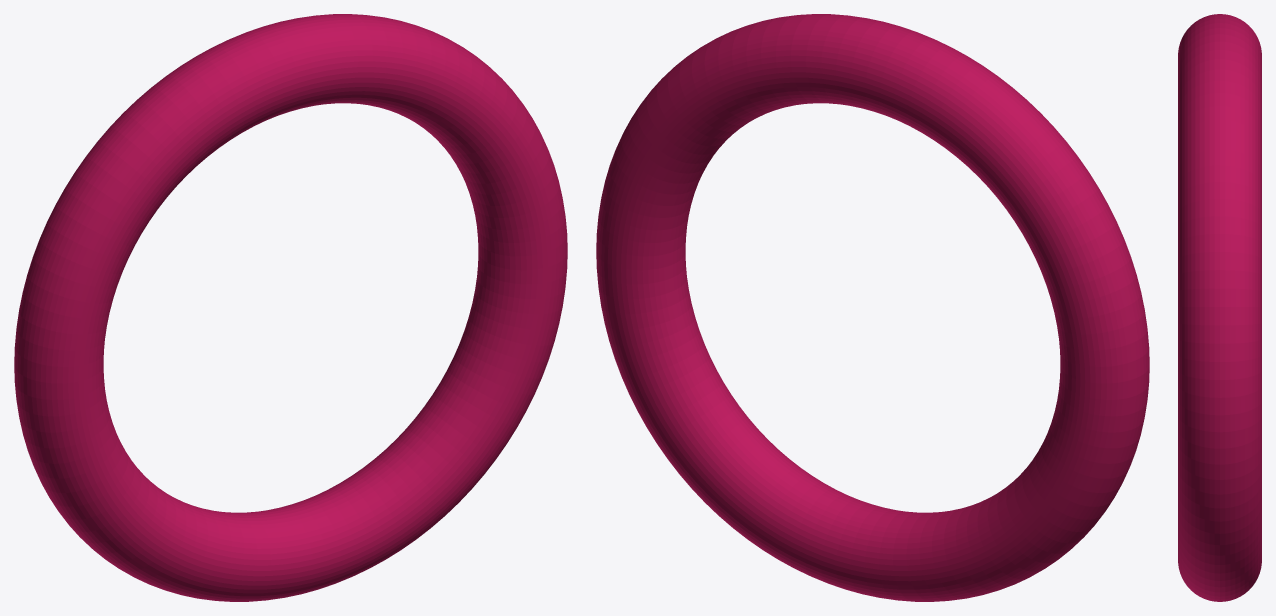
The picture shows the model from 3 angles, left to right: view 1: azimuth 30°, elevation 25°; view 2: azimuth 150°, elevation 25°; view 3: azimuth 270°, elevation 25°; orthographic projection. The views are drawn at different scales.
Visible parts, largest first — view 1: world; view 2: world; view 3: world.
Part boxes in pixels (x1,y1,x2,y2): world: (14, 14, 567, 601); world: (596, 14, 1149, 601); world: (1178, 14, 1261, 601).
Size of the model in its own units: 32.67 by 32.67 by 4.66.
